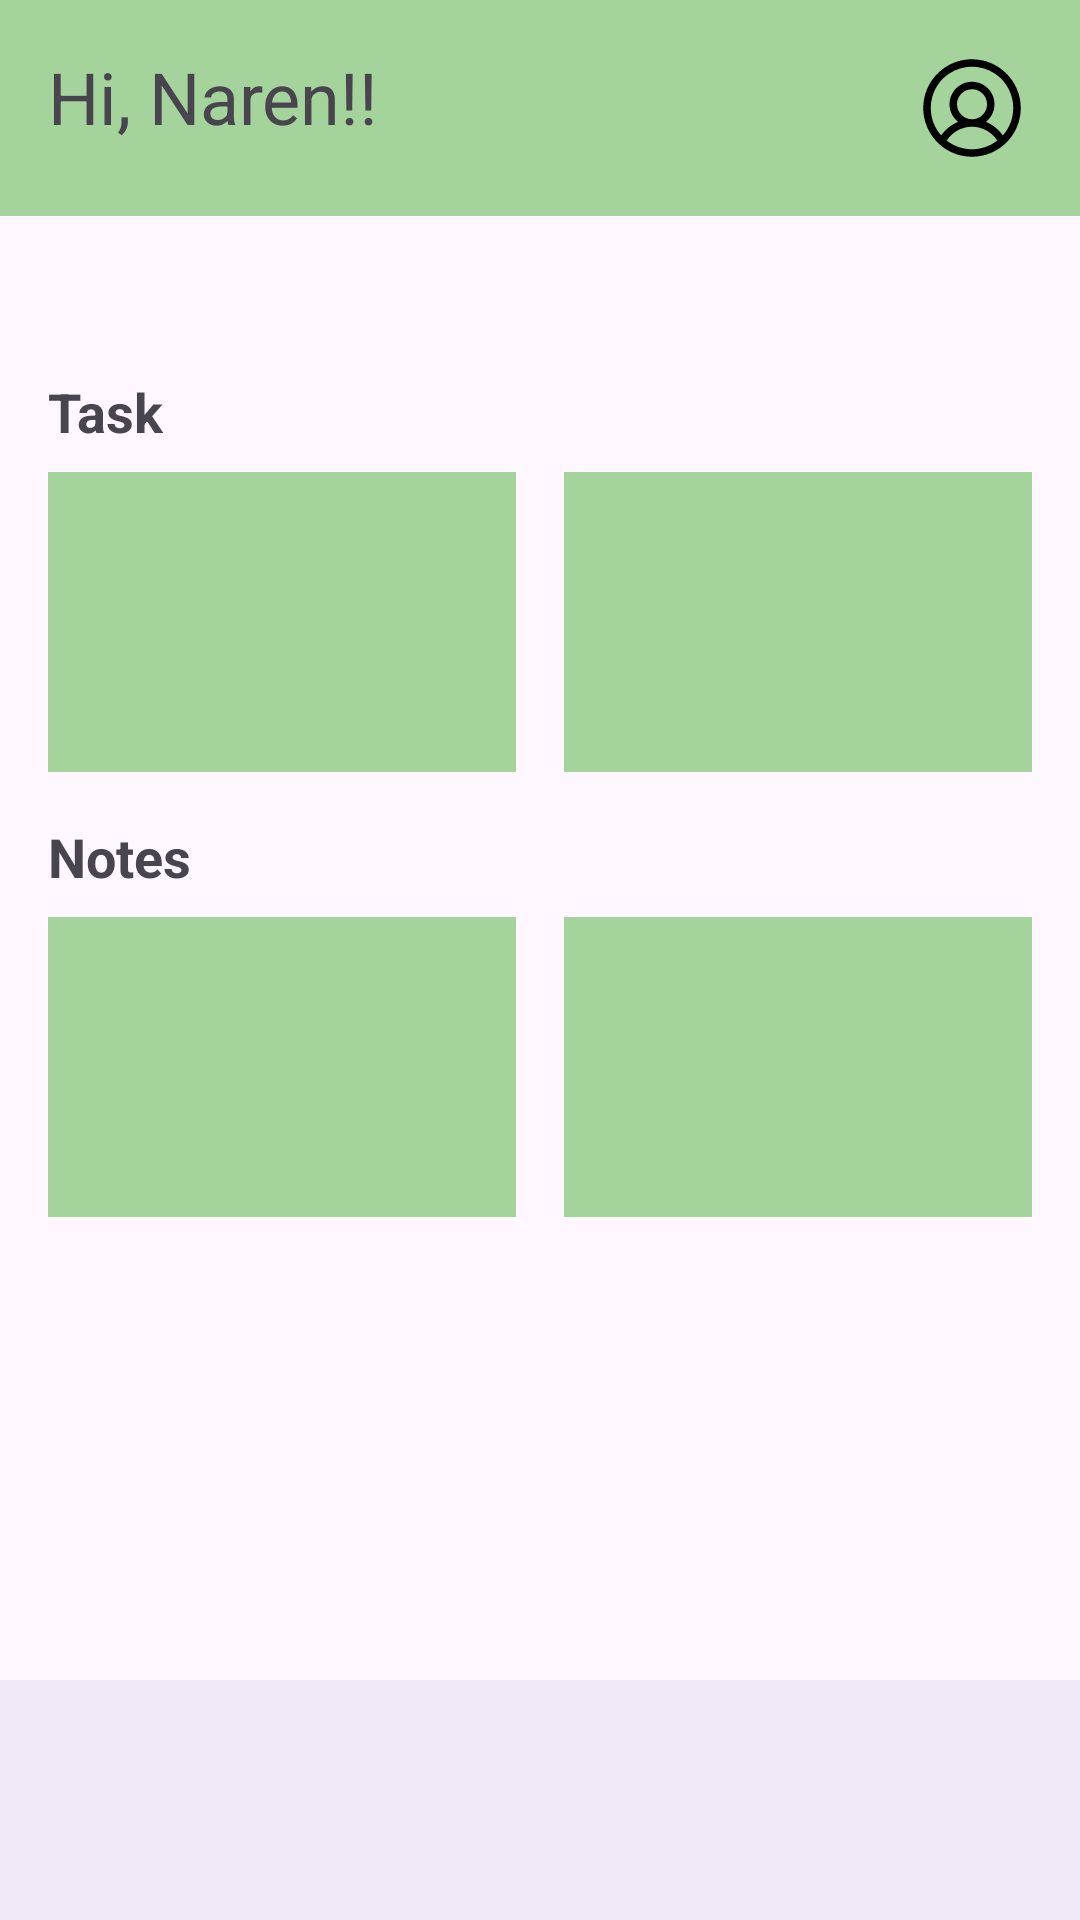

Icons on this 1080*1920 Android screen, each with its box as (x1, y1, x2, y2):
usercircle: (923, 59, 1021, 157)
